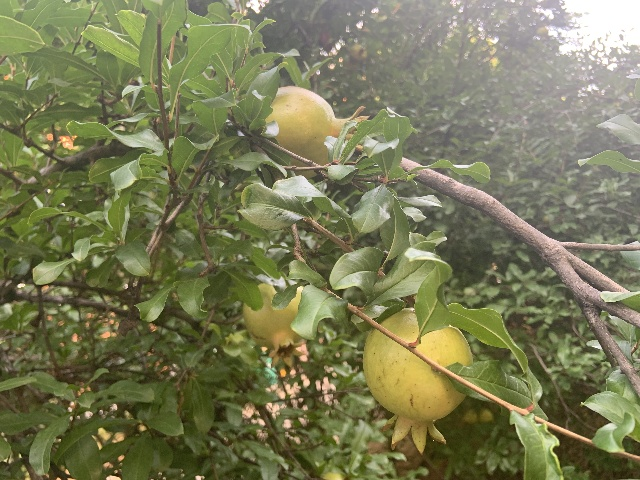mid-growth: (362, 307, 474, 456), (264, 85, 371, 179), (242, 283, 307, 371)
